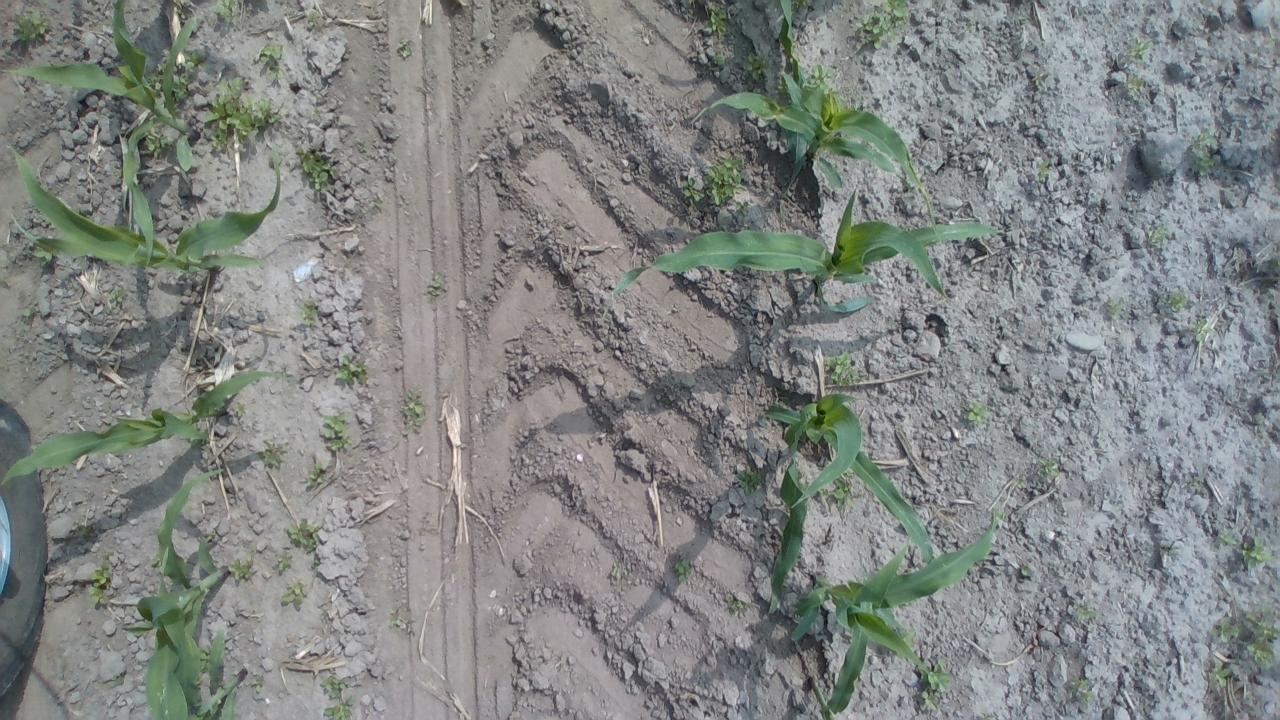Maize: (693, 0, 936, 244), (615, 185, 999, 314), (792, 510, 998, 714), (760, 393, 934, 604), (0, 0, 201, 180), (0, 368, 292, 490), (4, 145, 280, 272), (125, 469, 228, 720), (181, 628, 244, 720)
Weeds: (202, 78, 281, 153), (855, 0, 910, 49), (703, 156, 746, 206), (1246, 606, 1279, 666), (297, 146, 339, 190), (320, 674, 355, 720), (10, 12, 50, 44), (824, 352, 860, 387), (320, 413, 353, 450), (88, 559, 114, 605), (1241, 534, 1274, 570), (286, 518, 320, 552), (1193, 132, 1218, 176), (334, 354, 368, 386), (918, 658, 952, 690), (144, 126, 178, 157), (255, 44, 284, 80), (259, 439, 290, 468), (742, 52, 771, 82), (1208, 616, 1242, 641), (804, 63, 834, 89), (1208, 657, 1232, 689), (708, 1, 728, 38), (227, 557, 255, 583), (736, 470, 764, 496), (964, 399, 991, 425), (172, 73, 192, 108), (279, 580, 305, 606), (297, 300, 323, 326), (213, 0, 240, 25), (830, 478, 854, 506), (404, 393, 424, 425), (180, 47, 205, 72), (680, 178, 704, 202), (142, 66, 164, 92), (1130, 37, 1152, 62), (1192, 318, 1214, 342), (919, 689, 940, 711), (674, 558, 692, 583), (1034, 158, 1052, 182), (304, 463, 324, 484), (1074, 679, 1094, 700), (1106, 296, 1122, 321), (1072, 603, 1096, 619), (728, 597, 748, 616), (900, 626, 919, 646), (1166, 293, 1188, 310), (34, 248, 54, 266), (107, 286, 127, 304), (1039, 459, 1059, 476), (430, 272, 444, 296), (1126, 78, 1142, 99), (1148, 228, 1170, 243), (199, 648, 211, 674), (15, 306, 37, 320), (156, 48, 168, 72), (276, 552, 291, 570), (398, 38, 411, 56), (1220, 532, 1236, 545), (306, 108, 322, 120), (714, 54, 730, 66), (234, 402, 246, 417), (794, 0, 812, 10), (270, 152, 283, 165), (252, 678, 264, 692), (204, 530, 216, 544), (776, 78, 786, 94), (112, 673, 124, 686), (150, 552, 160, 567), (128, 629, 146, 637), (307, 14, 319, 26), (1032, 73, 1044, 85), (390, 617, 402, 627), (818, 488, 829, 498), (114, 169, 123, 181), (996, 510, 1006, 520), (311, 558, 320, 568), (1021, 566, 1030, 576), (736, 207, 744, 216), (964, 24, 972, 33)
